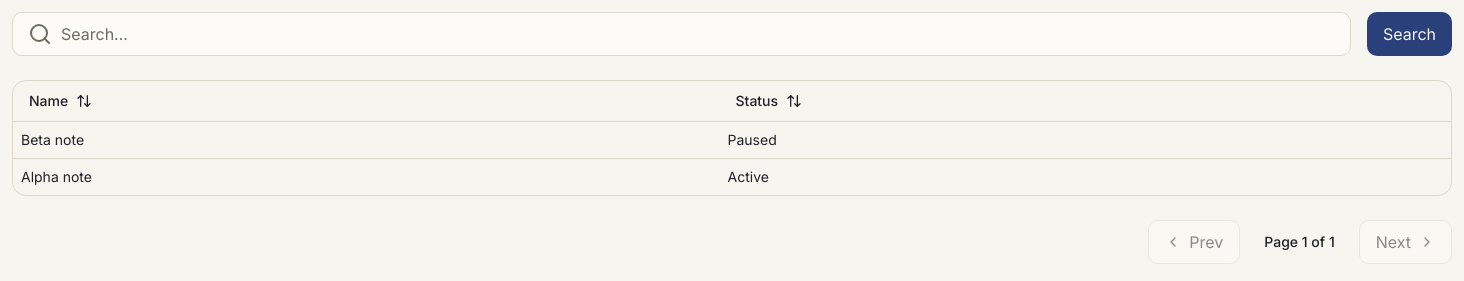
Test: DataTable › filters rows through the shared search control
Step 1. Type "Beta" into the search field named "Search notes" → (681, 34), box [12,12,1351,56]
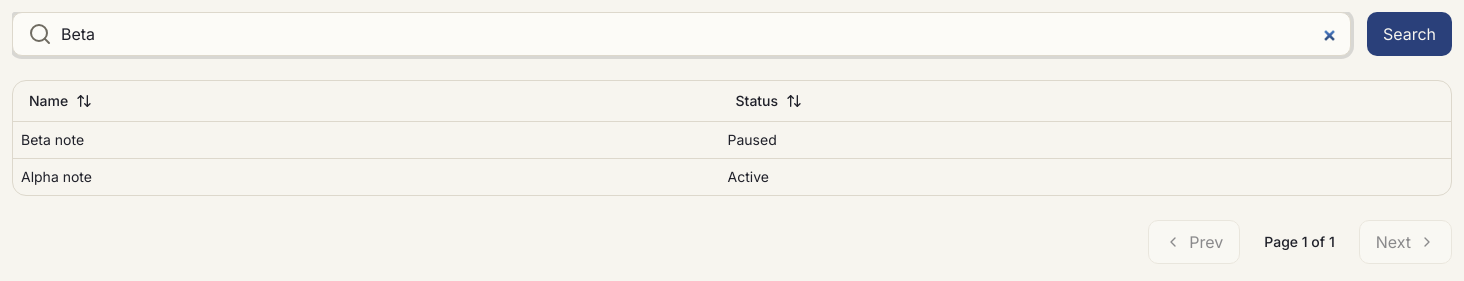
Expected: the text "Alpha note" is shown, [13,158,720,194]
Step 2. Click the button "Search" → (1409, 34), box [1367,12,1452,56]
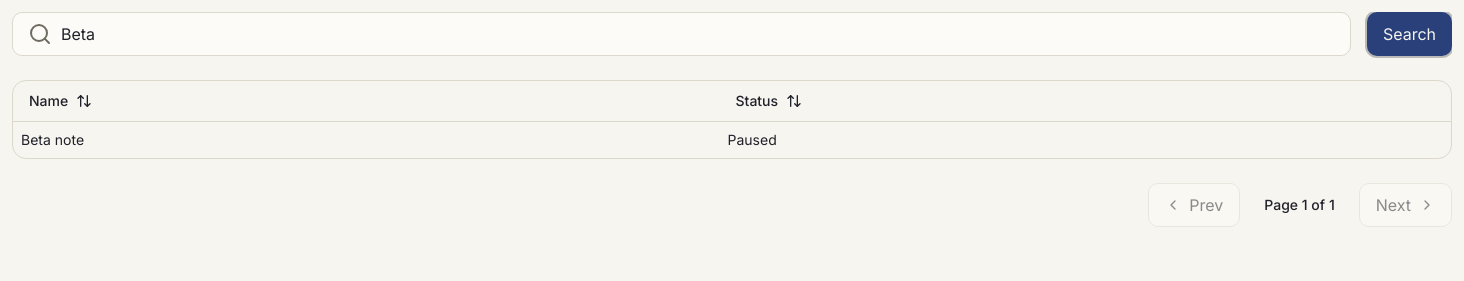
Expected: the text "Beta note" is shown, [13,122,720,158]
Expected: the text "Alpha note" is gone
